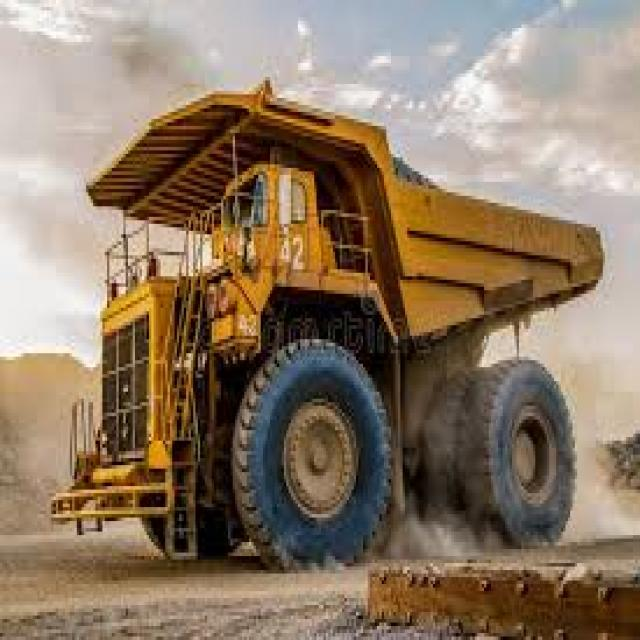dump_truck: (49, 80, 607, 566)
